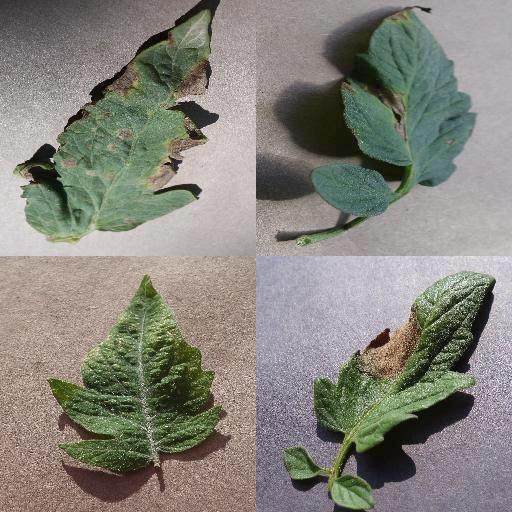Early Blight: (14, 9, 215, 243), (339, 7, 479, 185)
Healthy: (311, 163, 391, 219)
Late Blight: (316, 272, 496, 454)
Spider Mites: (46, 273, 228, 473)
